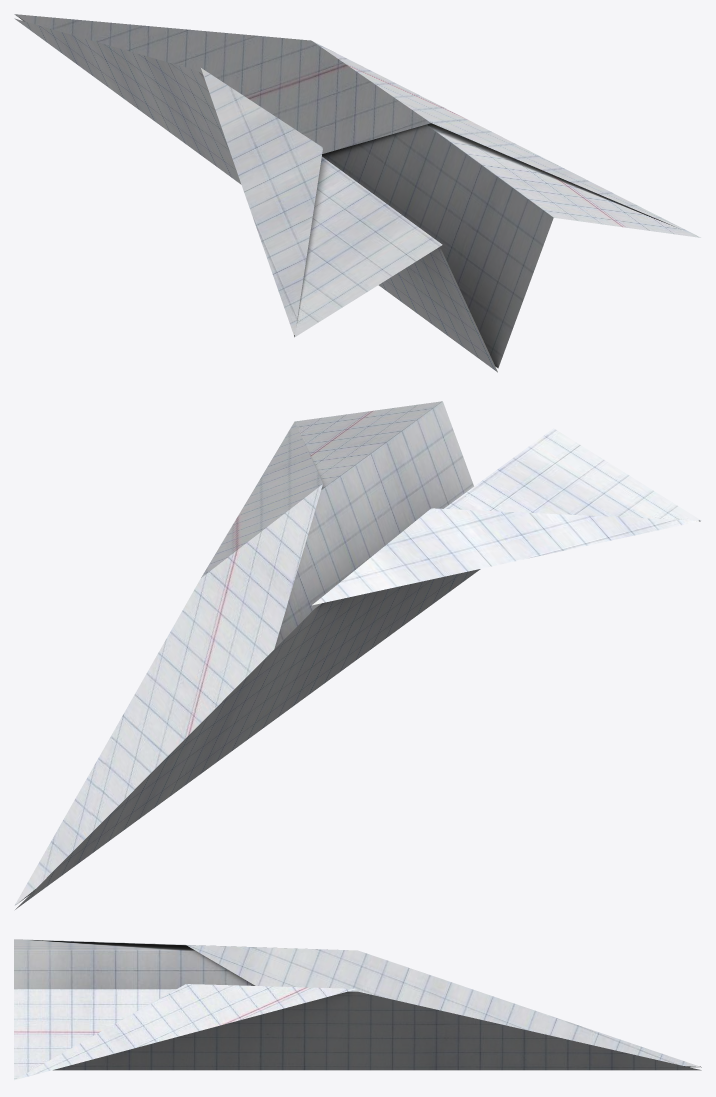
The model's file is paper_plane.180f7106.glb.
The picture shows the model from 3 angles, top to bottom: view 1: azimuth 30°, elevation 25°; view 2: azimuth 150°, elevation 25°; view 3: azimuth 270°, elevation 25°; orthographic projection. The views are drawn at different scales.
Visible parts, largest first — view 1: Plane001, Plane002; view 2: Plane001, Plane002; view 3: Plane001, Plane002.
Part boxes in pixels (<box>): Plane001: <box>14,16,700,372</box>; Plane002: <box>14,14,697,336</box>; Plane001: <box>15,401,701,909</box>; Plane002: <box>14,422,700,905</box>; Plane001: <box>14,939,701,1079</box>; Plane002: <box>14,939,701,1080</box>.
Bounding box in the file's own units: 9.96 × 3.5 × 20.5.
2 materials, 2 textured.
